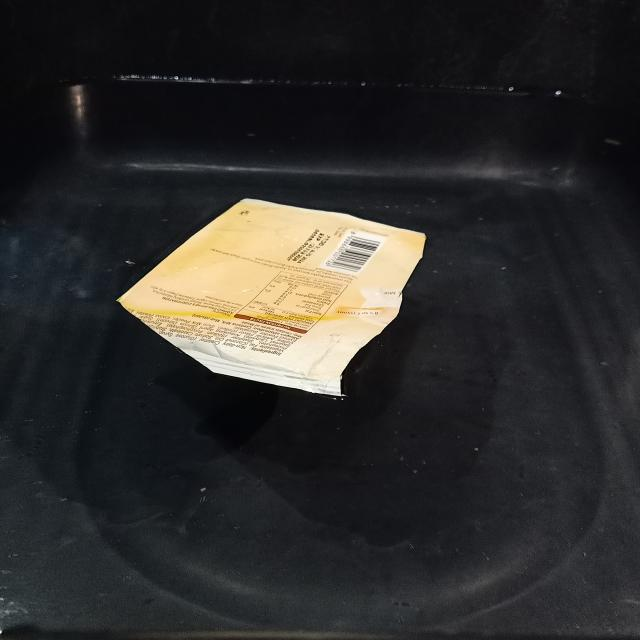Plastic Wrapper: (118, 199, 426, 397)
